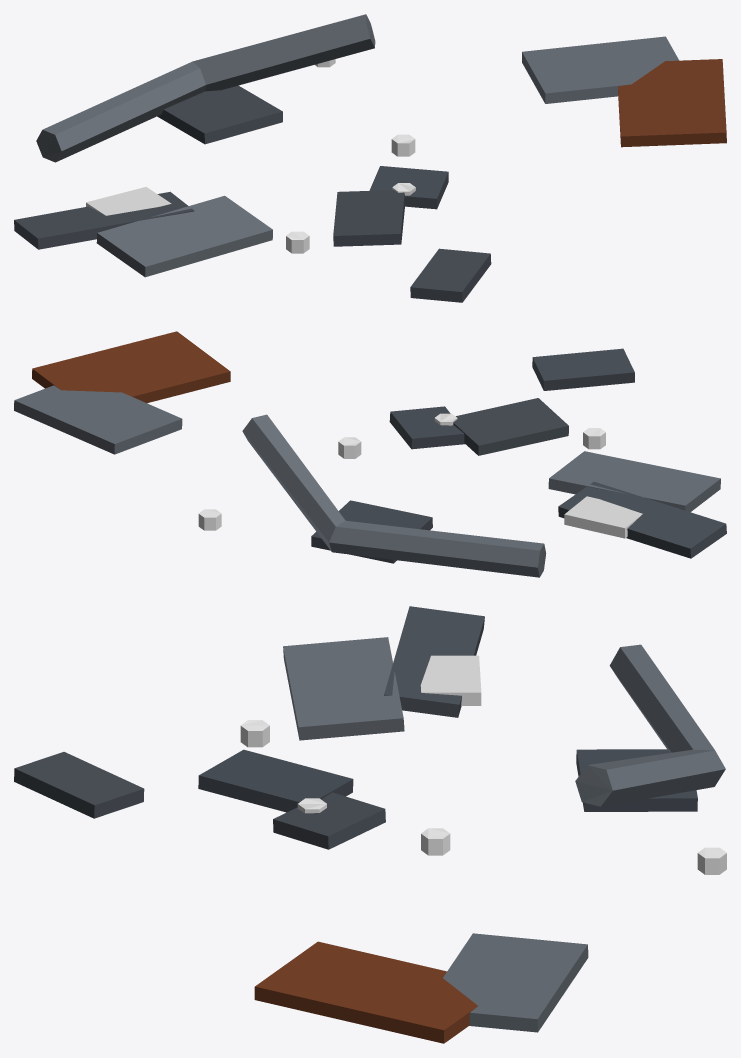
File: Debris_Scrap.fbx
The picture shows the model from 3 angles, top to bottom: view 1: azimuth 30°, elevation 25°; view 2: azimuth 150°, elevation 25°; view 3: azimuth 270°, elevation 25°; orthographic projection. The views are drawn at different scales.
Parts seen in each view (by area): view 1: Debris_Scrap; view 2: Debris_Scrap; view 3: Debris_Scrap.
Boxes of the visible parts, box(x1,y1,x2,y2) form: Debris_Scrap: box(14, 14, 726, 302); Debris_Scrap: box(14, 331, 726, 577); Debris_Scrap: box(14, 606, 726, 1043).
Size of the model in its own units: 2.73 by 0.309 by 1.95.
